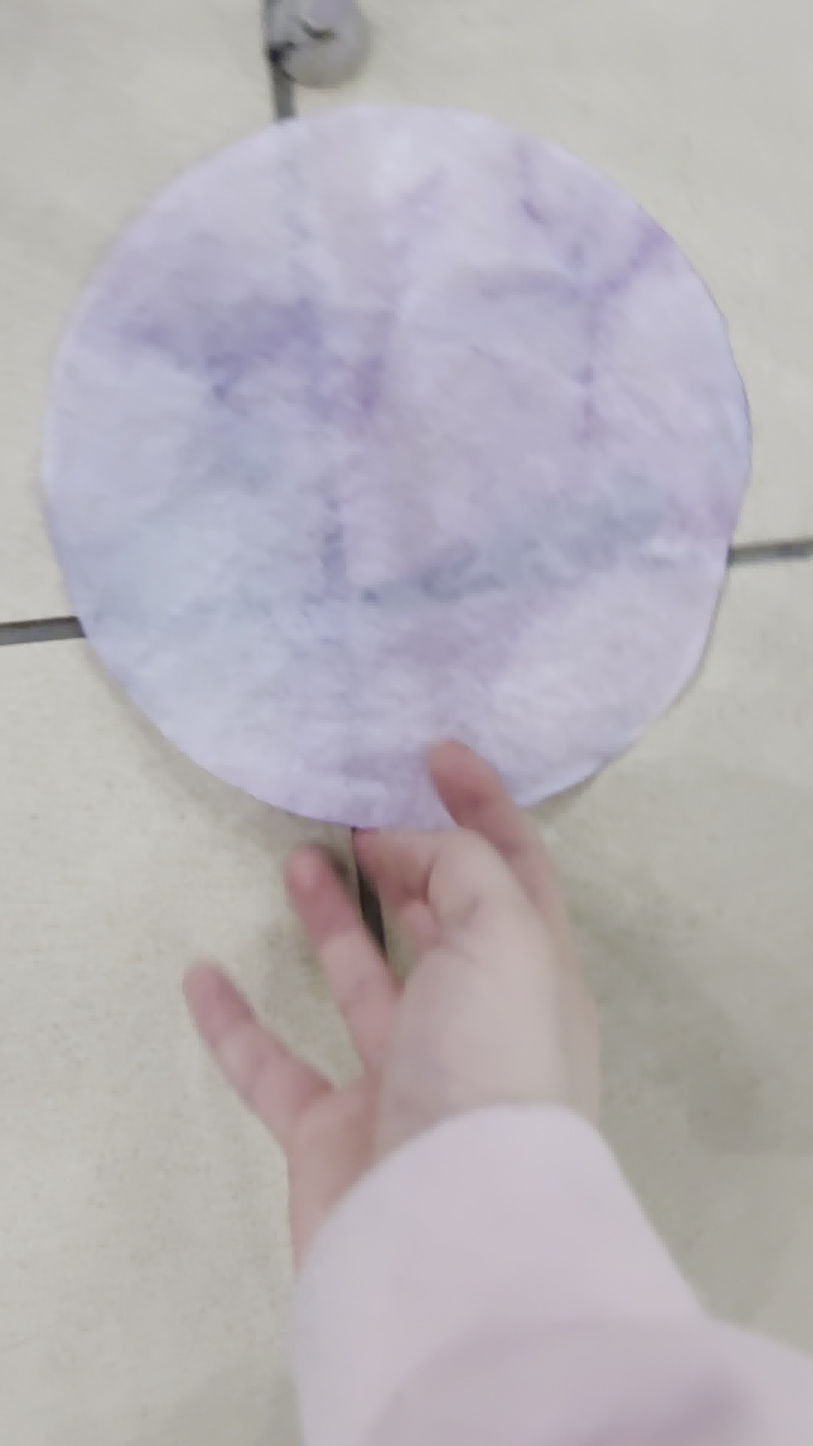Target: (58, 122, 744, 838)
